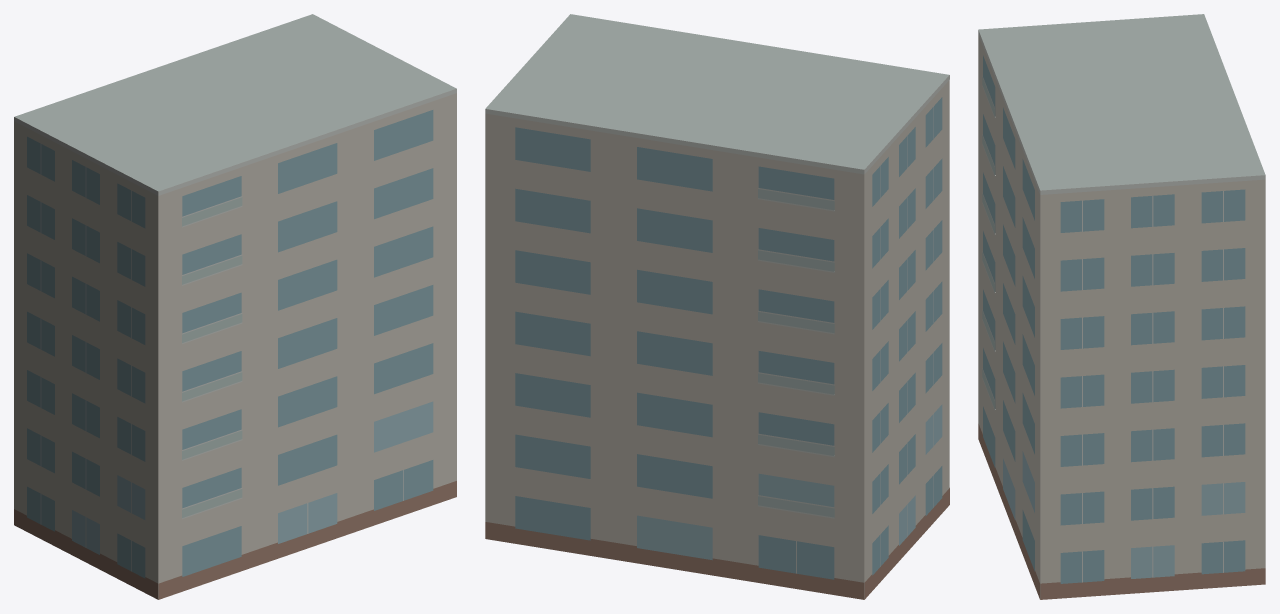
The model's file is survey-upis-32563928.glb.
The picture shows the model from 3 angles, left to right: view 1: azimuth 30°, elevation 25°; view 2: azimuth 150°, elevation 25°; view 3: azimuth 270°, elevation 25°; orthographic projection. The views are drawn at different scales.
Visible parts, largest first — view 1: survey-upis-32563928.tmp; view 2: survey-upis-32563928.tmp; view 3: survey-upis-32563928.tmp.
Part boxes in pixels (x1=…): survey-upis-32563928.tmp: x1=14, y1=14, x2=456, y2=599; survey-upis-32563928.tmp: x1=485, y1=14, x2=949, y2=599; survey-upis-32563928.tmp: x1=978, y1=14, x2=1265, y2=599.
Size of the model in its own units: 20.82 by 22.5 by 14.33.
